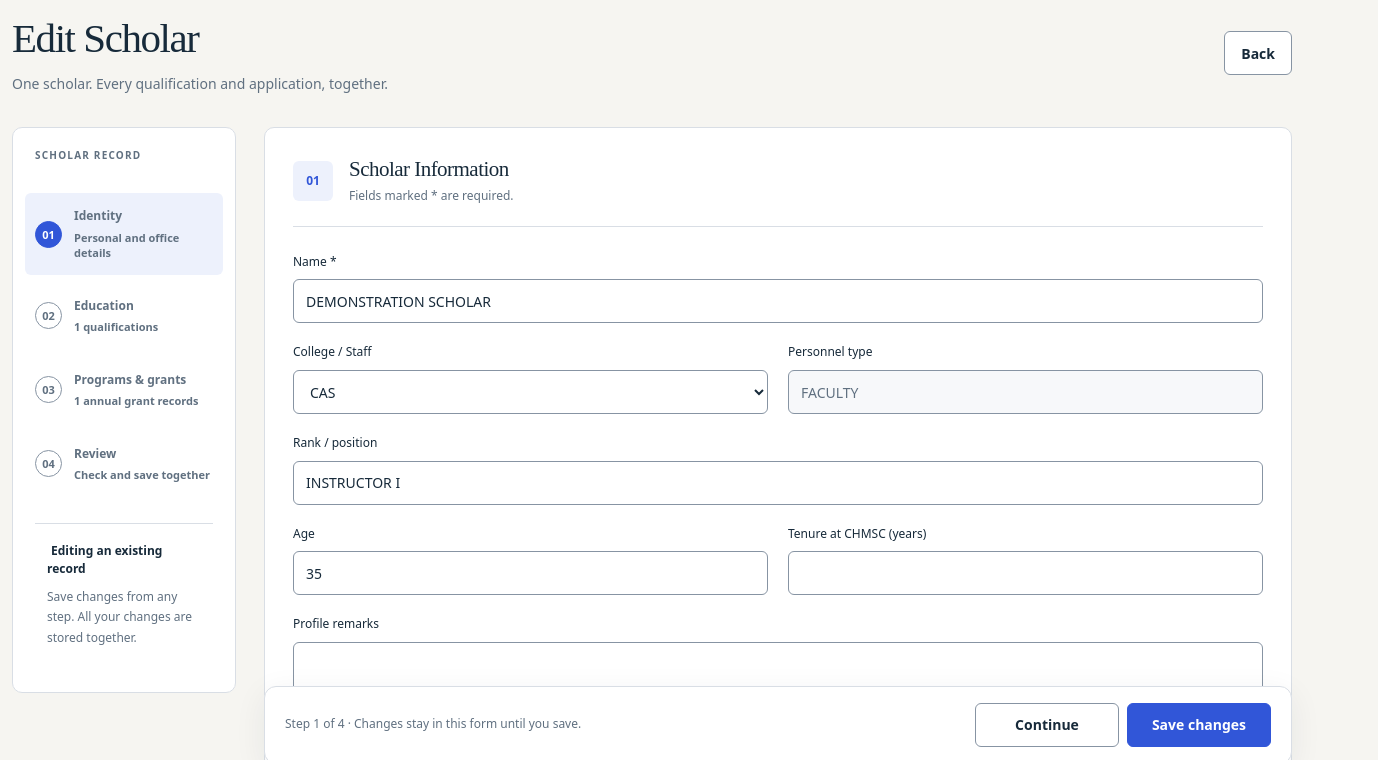
Test: quick save with a missing name returns to Identity with all entries retained
Step 1. Clear the field labelled "Name *" → [778, 301], box [293,279,1263,323]
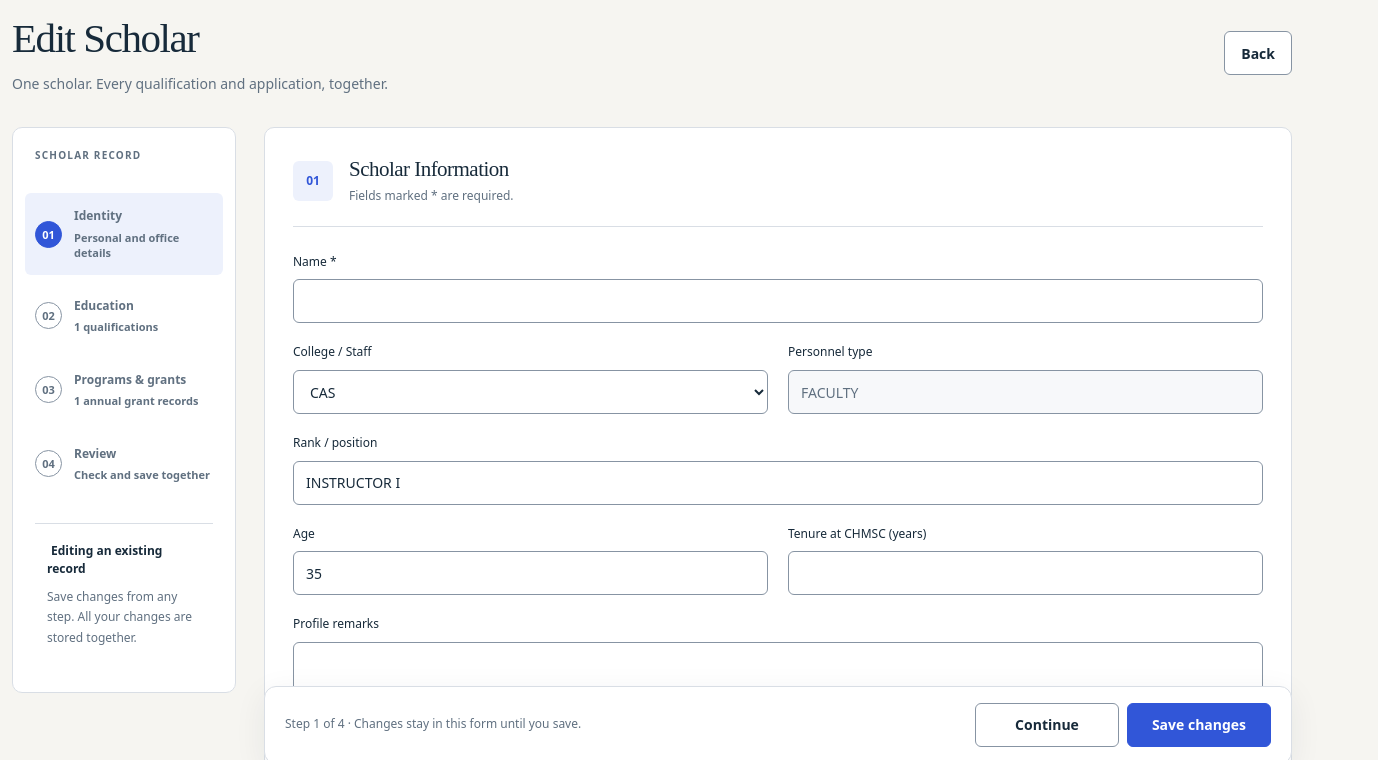
Step 2. Click the button "02 Education 1 qualifications" → [124, 316], box [25,283,223,349]
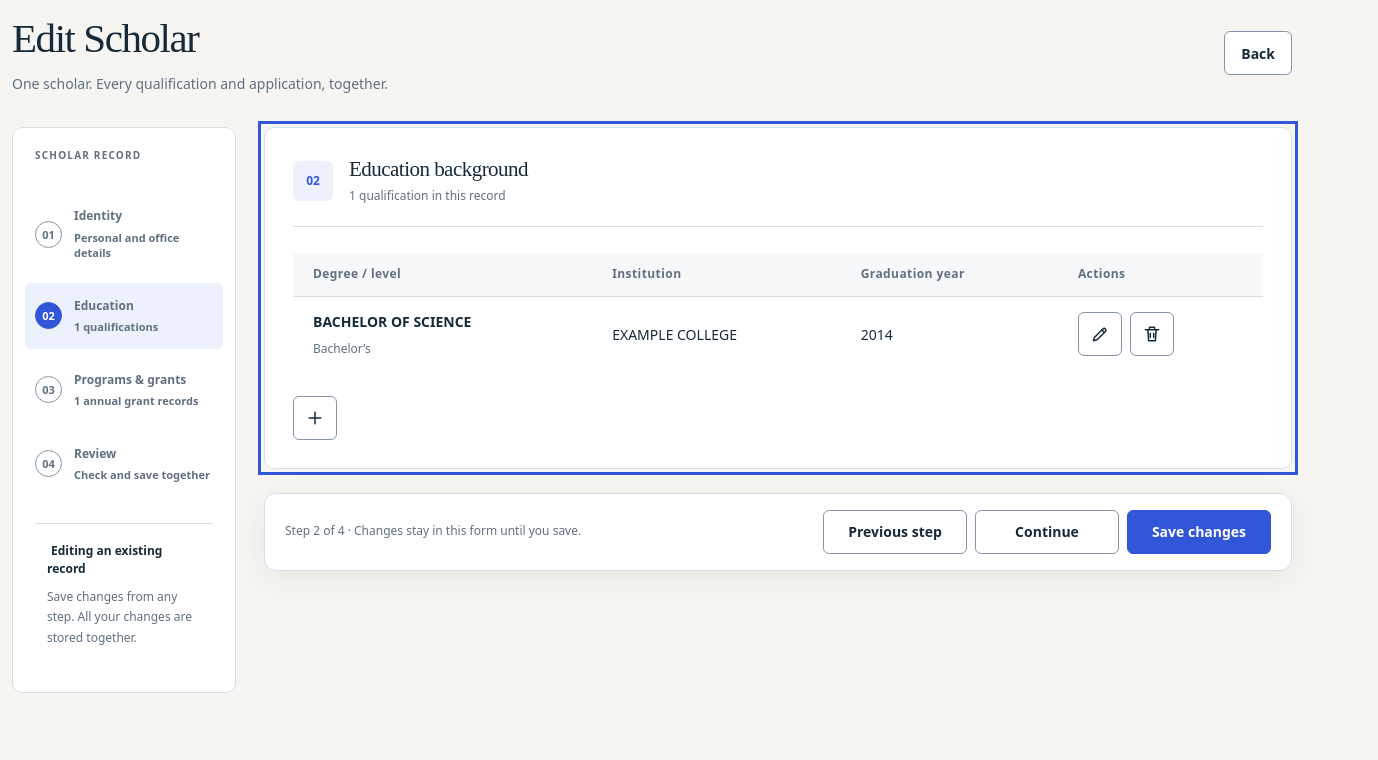
Step 3. Click the button "Save changes" → [1199, 532], box [1127,510,1271,554]
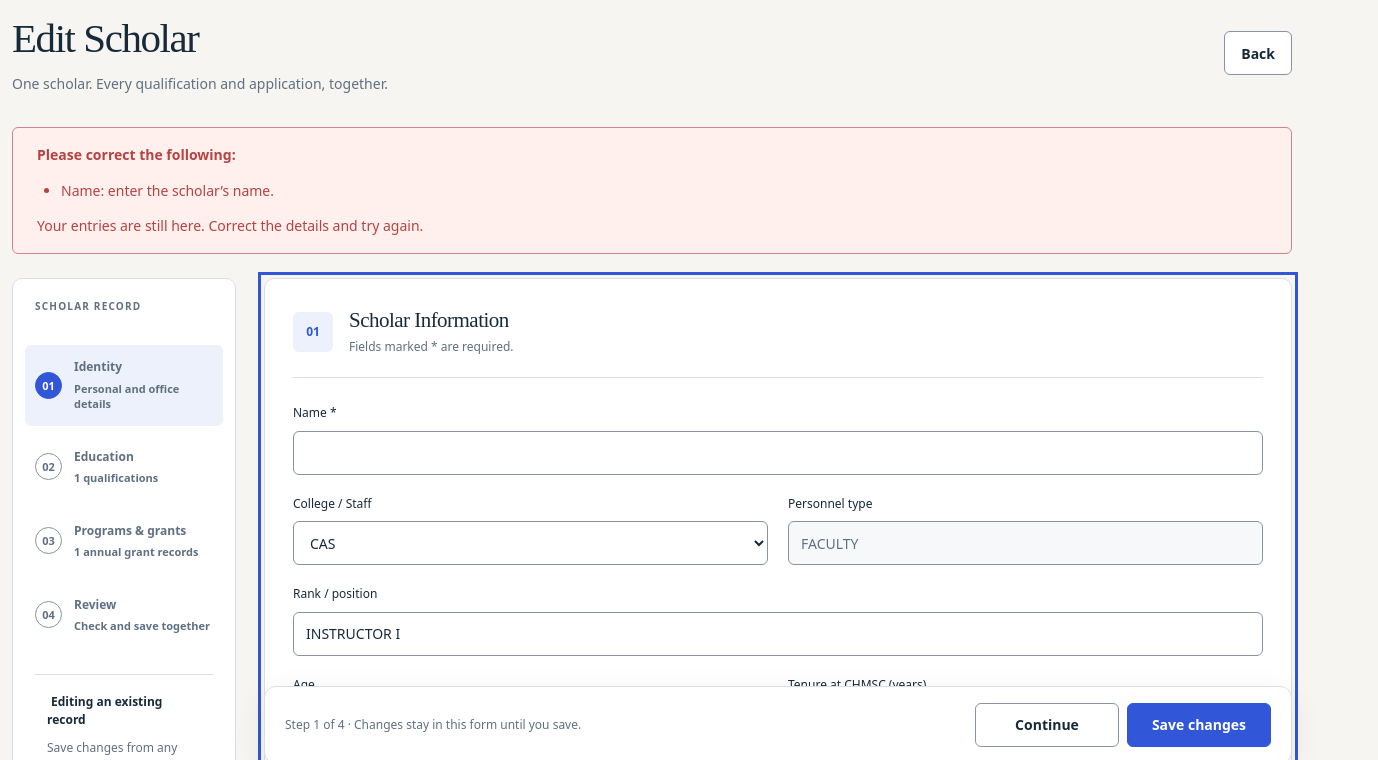
Check: the heading "Scholar Information" is shown, box [349,307,514,334]
Check: the message that starts with "Please correct the following:" shows "enter the scholar’s name", box [61,181,274,200]
Step 4. Click the button "02 Education 1 qualifications" → [124, 467], box [25,434,223,500]
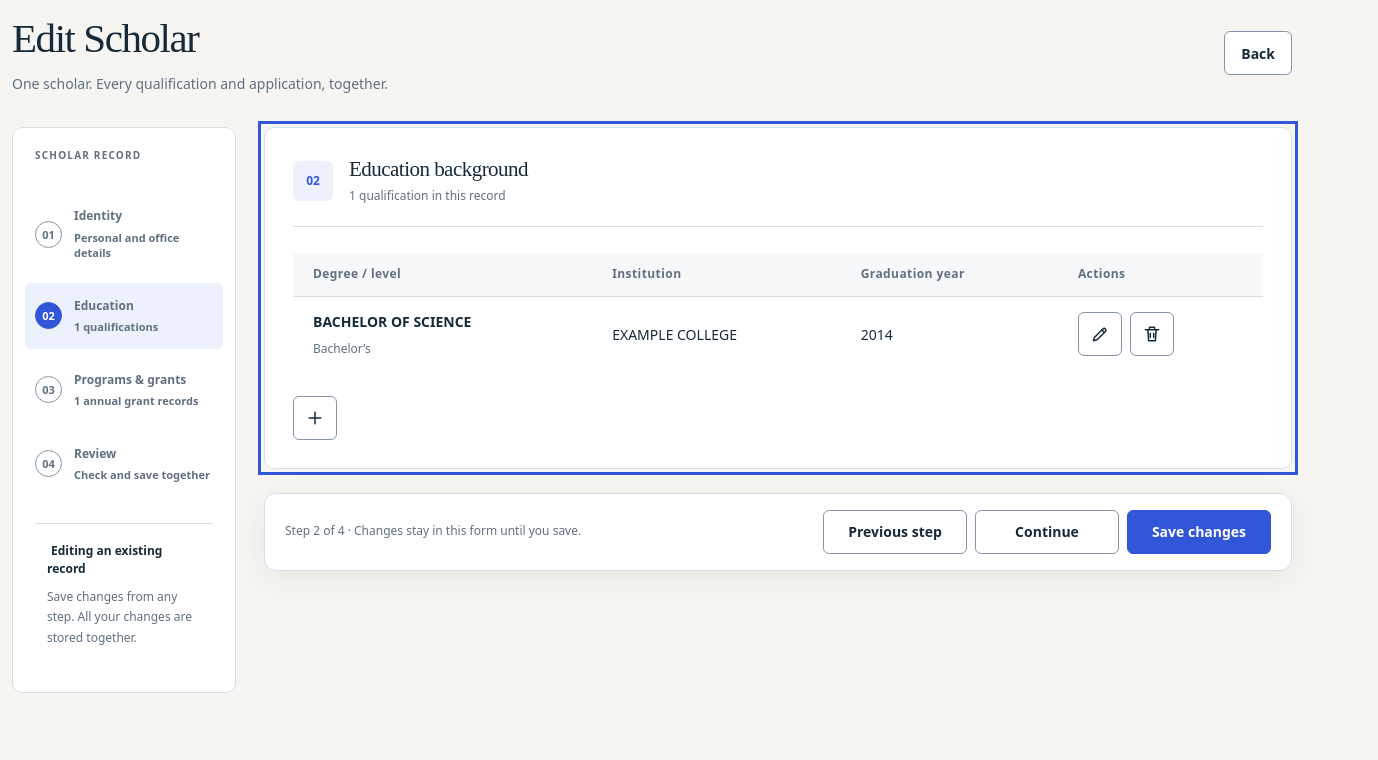
Check: the text "BACHELOR OF SCIENCE" is shown, box [313,312,471,331]
